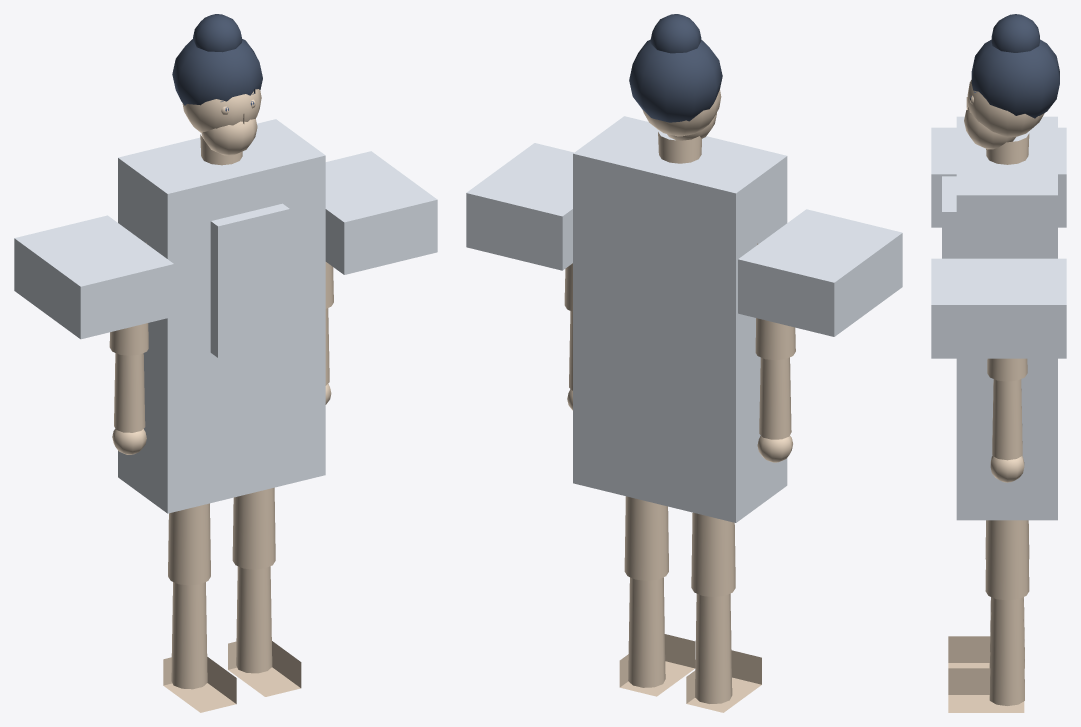
Rendered from body.glb.
3 renders of one model, left to right at view 1: azimuth 30°, elevation 25°; view 2: azimuth 150°, elevation 25°; view 3: azimuth 270°, elevation 25°, orthographic. The views are drawn at different scales.
Parts seen in each view (by area): view 1: Cloth, Skin, Hair; view 2: Cloth, Skin, Hair; view 3: Cloth, Skin, Hair.
Boxes of the visible parts, x1,y1,x2,y2 form: Cloth: [14, 119, 437, 513]; Skin: [109, 89, 333, 712]; Hair: [172, 14, 262, 105]; Cloth: [466, 116, 902, 522]; Skin: [564, 89, 795, 712]; Hair: [629, 14, 722, 122]; Cloth: [931, 116, 1066, 520]; Skin: [948, 80, 1044, 712]; Hair: [971, 14, 1059, 118].
Bounding box in the file's own units: 0.9935 × 1.76 × 0.32.
